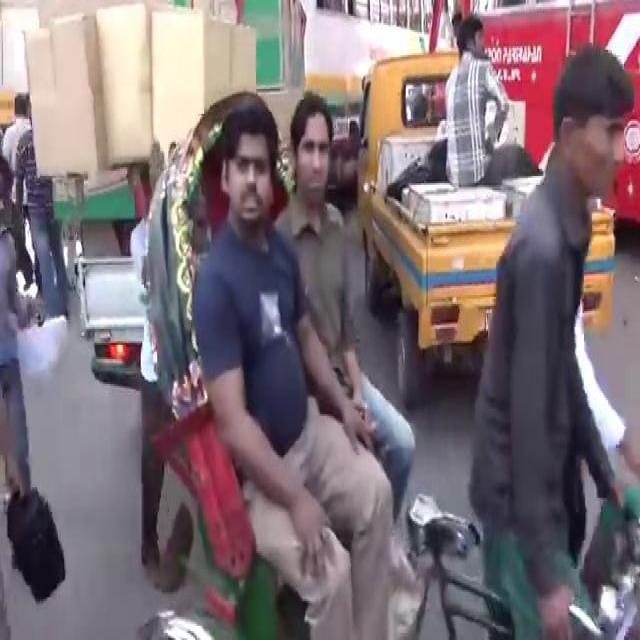11: (352, 18, 622, 404), (72, 220, 150, 396)
13: (126, 40, 636, 628)
Truck: (425, 0, 638, 236), (303, 0, 453, 178)
